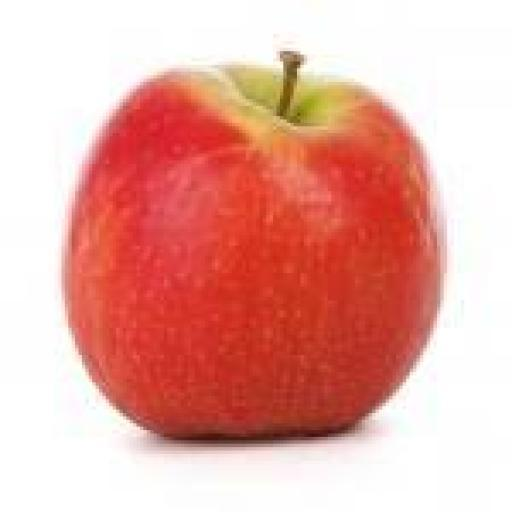apple: (65, 52, 443, 436)
